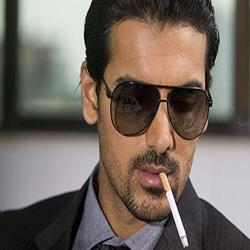smoking: (135, 164, 197, 250)
